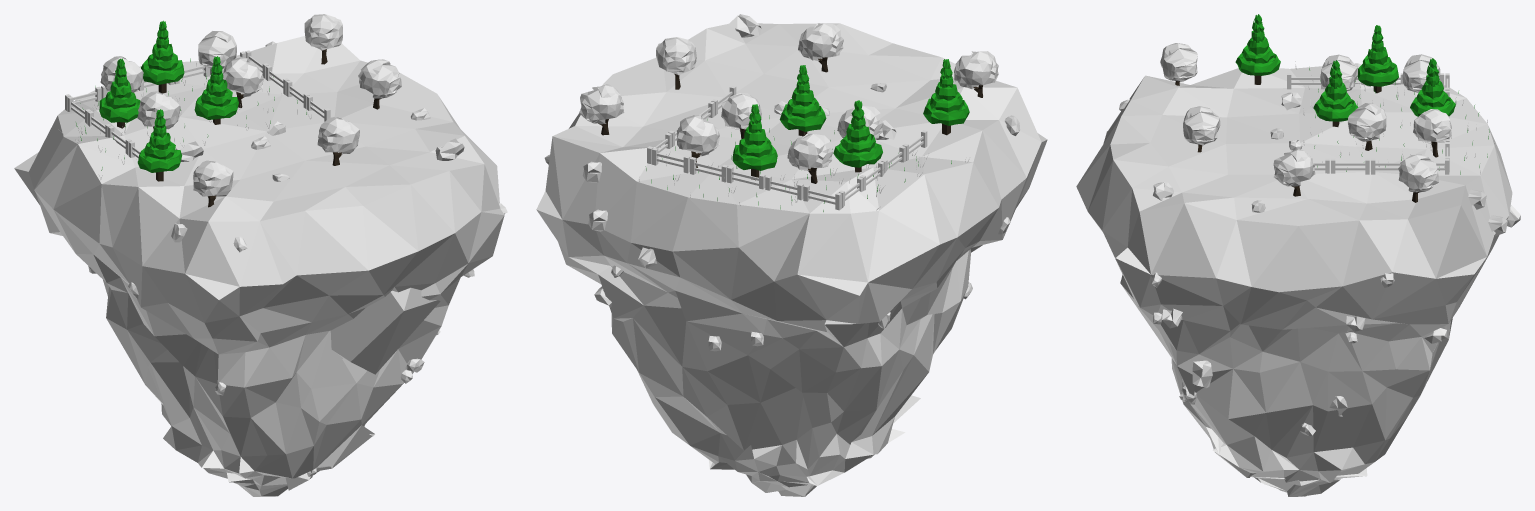
File: Ostrov-forest.fbx
The picture shows the model from 3 angles, left to right: view 1: azimuth 30°, elevation 25°; view 2: azimuth 150°, elevation 25°; view 3: azimuth 270°, elevation 25°; orthographic projection. The views are drawn at different scales.
Parts seen in each view (by area): view 1: Куб, Куб.050, Куб.021, Куб.176, Куб.006, Куб.008, Куб.007, Куб.001, Куб.025, Куб.023, Куб.005, Куб.022 (+3 smaller); view 2: Куб, Куб.021, Куб.050, Куб.007, Куб.006, Куб.176, Куб.008, Куб.025, Куб.002, Куб.022, Куб.023, Куб.003 (+3 smaller); view 3: Куб, Куб.050, Куб.176, Куб.021, Куб.007, Куб.008, Куб.006, Куб.022, Куб.001, Куб.005, Куб.025, Куб.023 (+3 smaller).
Boxes of the visible parts, left/top/right/bottom form: Куб: left=14, top=36, right=504, bottom=496; Куб.050: left=88, top=41, right=507, bottom=476; Куб.021: left=65, top=50, right=330, bottom=158; Куб.176: left=137, top=109, right=182, bottom=181; Куб.006: left=141, top=20, right=184, bottom=93; Куб.008: left=194, top=56, right=238, bottom=124; Куб.007: left=99, top=58, right=140, bottom=128; Куб.001: left=358, top=59, right=401, bottom=109; Куб.025: left=317, top=117, right=359, bottom=165; Куб.023: left=193, top=160, right=233, bottom=207; Куб.005: left=223, top=57, right=263, bottom=107; Куб.022: left=304, top=14, right=342, bottom=64; Куб: left=536, top=23, right=1047, bottom=496; Куб.021: left=647, top=85, right=927, bottom=210; Куб.050: left=544, top=14, right=1020, bottom=351; Куб.007: left=833, top=100, right=882, bottom=172; Куб.006: left=732, top=104, right=777, bottom=180; Куб.176: left=923, top=59, right=969, bottom=135; Куб.008: left=779, top=65, right=826, bottom=136; Куб.025: left=798, top=23, right=843, bottom=72; Куб.002: left=787, top=133, right=833, bottom=183; Куб.022: left=579, top=84, right=624, bottom=135; Куб.023: left=954, top=51, right=998, bottom=97; Куб.003: left=676, top=115, right=719, bottom=167; Куб: left=1076, top=63, right=1512, bottom=496; Куб.050: left=1119, top=81, right=1520, bottom=436; Куб.176: left=1235, top=14, right=1280, bottom=84; Куб.021: left=1287, top=73, right=1449, bottom=174; Куб.007: left=1357, top=25, right=1398, bottom=93; Куб.008: left=1313, top=60, right=1358, bottom=126; Куб.006: left=1410, top=58, right=1455, bottom=116; Куб.022: left=1398, top=154, right=1438, bottom=202; Куб.001: left=1273, top=148, right=1315, bottom=196; Куб.005: left=1348, top=103, right=1386, bottom=150; Куб.025: left=1183, top=106, right=1220, bottom=152; Куб.023: left=1160, top=43, right=1197, bottom=85.
Bounding box in the file's own units: 1982 × 2164 × 2080.
